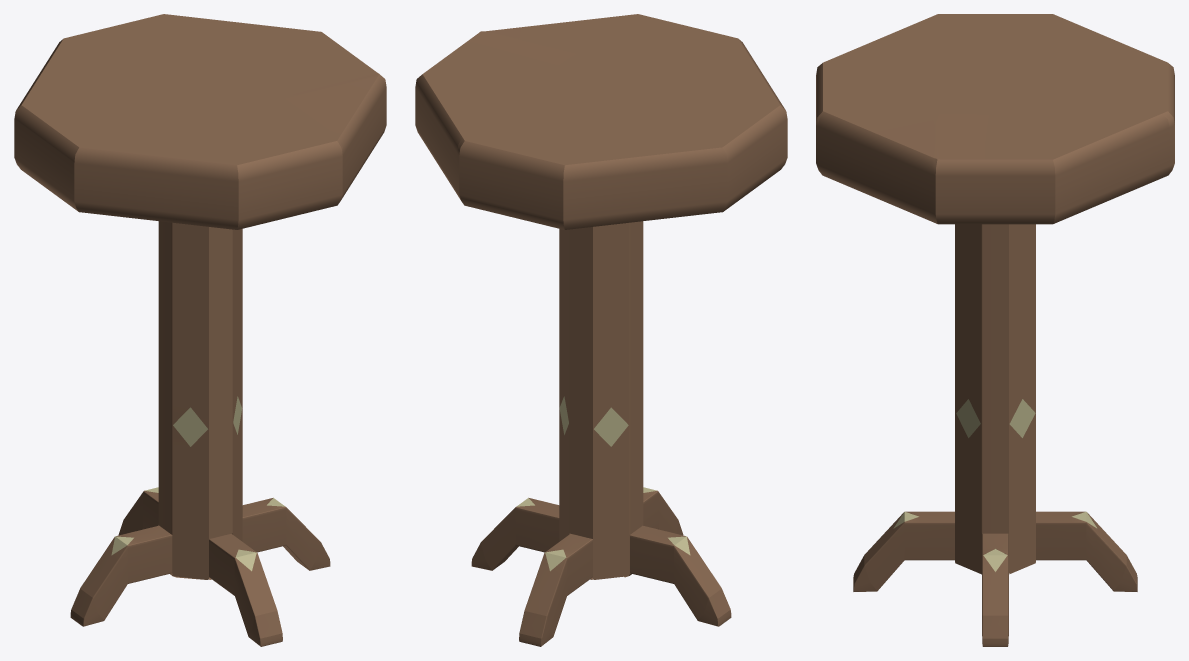
Rendered from Chess Table.fbx.
3 views of the same model, side by side, from view 1: azimuth 30°, elevation 25°; view 2: azimuth 150°, elevation 25°; view 3: azimuth 270°, elevation 25° (orthographic).
Visible parts, largest first — view 1: polySurface51; view 2: polySurface51; view 3: polySurface51.
Boxes of the visible parts, left/top/right/bottom form: polySurface51: left=14, top=14, right=386, bottom=646; polySurface51: left=415, top=14, right=787, bottom=646; polySurface51: left=816, top=14, right=1174, bottom=646.
Bounding box in the file's own units: 50.04 × 77.06 × 50.04.
